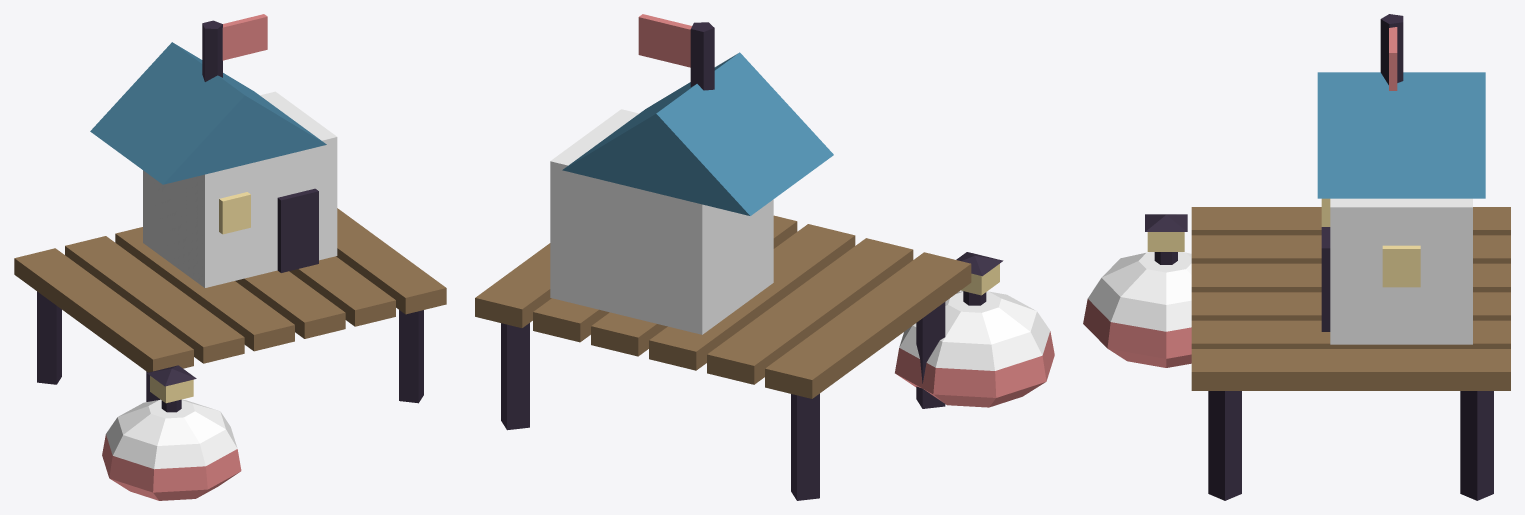
The model's file is ocean-landmark-s2.glb.
The picture shows the model from 3 angles, left to right: view 1: azimuth 30°, elevation 25°; view 2: azimuth 150°, elevation 25°; view 3: azimuth 270°, elevation 25°; orthographic projection. The views are drawn at different scales.
Parts seen in each view (by area): view 1: ocean-landmark-s2; view 2: ocean-landmark-s2; view 3: ocean-landmark-s2.
Boxes of the visible parts, bbox=[...] form: ocean-landmark-s2: bbox=[14, 14, 446, 500]; ocean-landmark-s2: bbox=[475, 14, 1054, 500]; ocean-landmark-s2: bbox=[1083, 14, 1510, 500].
Size of the model in its own units: 1.1 by 1.06 by 1.02.
